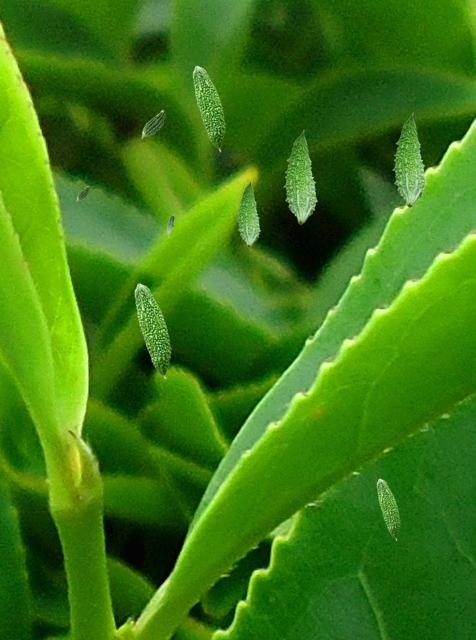ampalaya: (134, 283, 172, 380), (392, 112, 427, 208), (283, 129, 318, 225), (192, 65, 226, 152), (236, 180, 261, 247), (376, 478, 401, 541), (140, 109, 165, 139), (76, 185, 89, 202), (166, 213, 174, 237)
